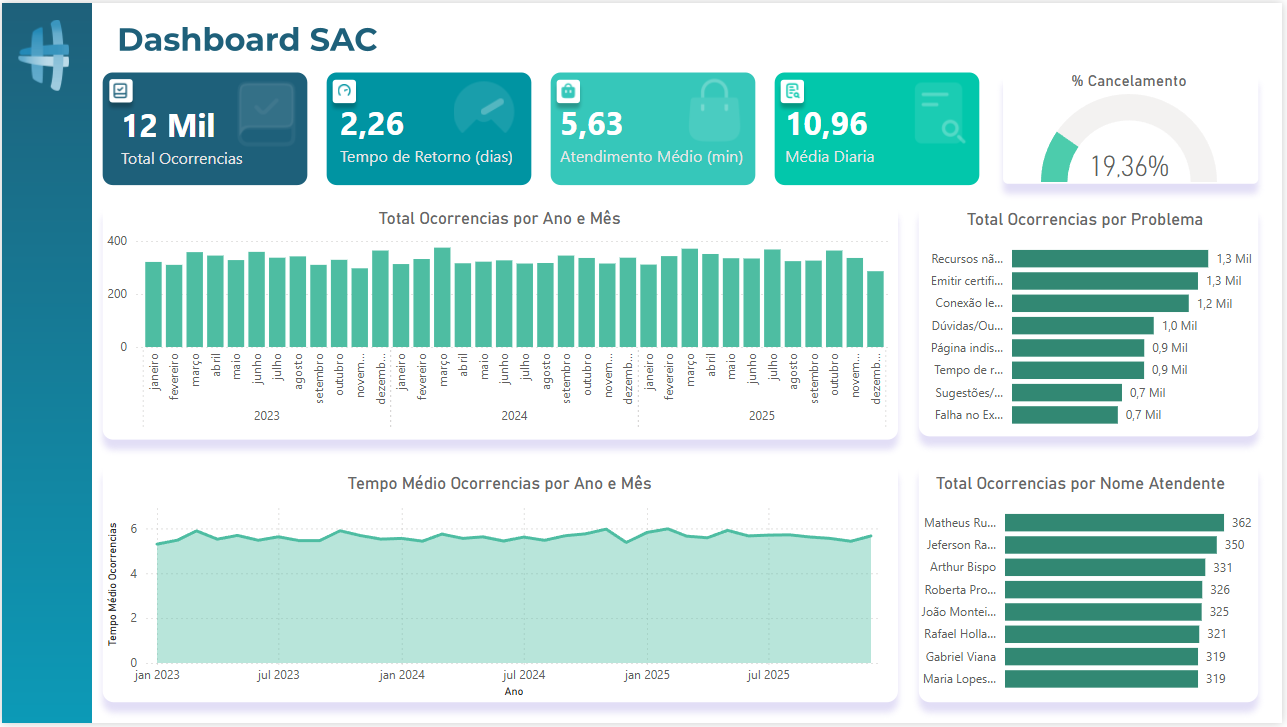

The dashboard page shown, as its layout file describes it:
{"tool":"powerbi","page":{"name":"Página 1","canvas":[1280,720],"ordinal":0},"visuals":[{"type":"cardVisual","fields":{"Data":["fOcorrencias.Total Ocorrencias"]},"box":[86.2,78.8,198.8,105],"z":0},{"type":"cardVisual","fields":{"Data":["fOcorrencias.Tempo de Retorno (dias)"]},"box":[305.5,55.5,254.5,150],"z":1000},{"type":"cardVisual","fields":{"Data":["fOcorrencias.Tempo de Atendimento"]},"box":[524.5,55.5,289.1,150],"z":2000},{"type":"cardVisual","fields":{"Data":["fOcorrencias.Média Diaria"]},"box":[750,55.5,289.1,150],"z":2001},{"type":"gauge","fields":{"Y":["fOcorrencias.% Cancelamento"]},"box":[999.1,68.2,256.4,116.4],"z":2002},{"type":"columnChart","fields":{"Y":["fOcorrencias.Total Ocorrencias"],"Category":["fOcorrencias.Data Chamado.Variation.Hierarquia de datas.Ano","fOcorrencias.Data Chamado.Variation.Hierarquia de datas.Mês"]},"box":[100,205.5,794.5,229.1],"z":2003},{"type":"areaChart","fields":{"Y":["fOcorrencias.Tempo Médio Ocorrencias"],"Category":["fOcorrencias.Data Chamado.Variation.Hierarquia de datas.Ano","fOcorrencias.Data Chamado.Variation.Hierarquia de datas.Mês"]},"box":[100,470,795.5,229.1],"z":2004},{"type":"barChart","fields":{"Y":["fOcorrencias.Total Ocorrencias"],"Category":["dProblema.Problema"]},"box":[910.9,206.4,344.5,228.2],"z":2005},{"type":"barChart","fields":{"Y":["fOcorrencias.Total Ocorrencias"],"Category":["dSuporte.Nome Atendente"]},"box":[901.8,470,353.6,229.1],"z":2006}]}

Visuals, with their boxes in screenshot pixels (x1, y1, x2, y2), scaled from the page's 1280x720 canvas onto the 1287x727 screenshot:
cardVisual - fOcorrencias.Total Ocorrencias: rect(87, 80, 287, 186)
cardVisual - fOcorrencias.Tempo de Retorno (dias): rect(307, 56, 563, 207)
cardVisual - fOcorrencias.Tempo de Atendimento: rect(527, 56, 818, 207)
cardVisual - fOcorrencias.Média Diaria: rect(754, 56, 1045, 207)
gauge - fOcorrencias.% Cancelamento: rect(1005, 69, 1262, 186)
columnChart - fOcorrencias.Total Ocorrencias x fOcorrencias.Data Chamado.Variation.Hierarquia de datas.Ano: rect(101, 207, 899, 439)
areaChart - fOcorrencias.Tempo Médio Ocorrencias x fOcorrencias.Data Chamado.Variation.Hierarquia de datas.Ano: rect(101, 475, 900, 706)
barChart - fOcorrencias.Total Ocorrencias x dProblema.Problema: rect(916, 208, 1262, 439)
barChart - fOcorrencias.Total Ocorrencias x dSuporte.Nome Atendente: rect(907, 475, 1262, 706)
